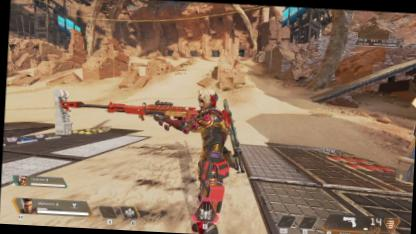Target: (186, 86, 247, 199)
